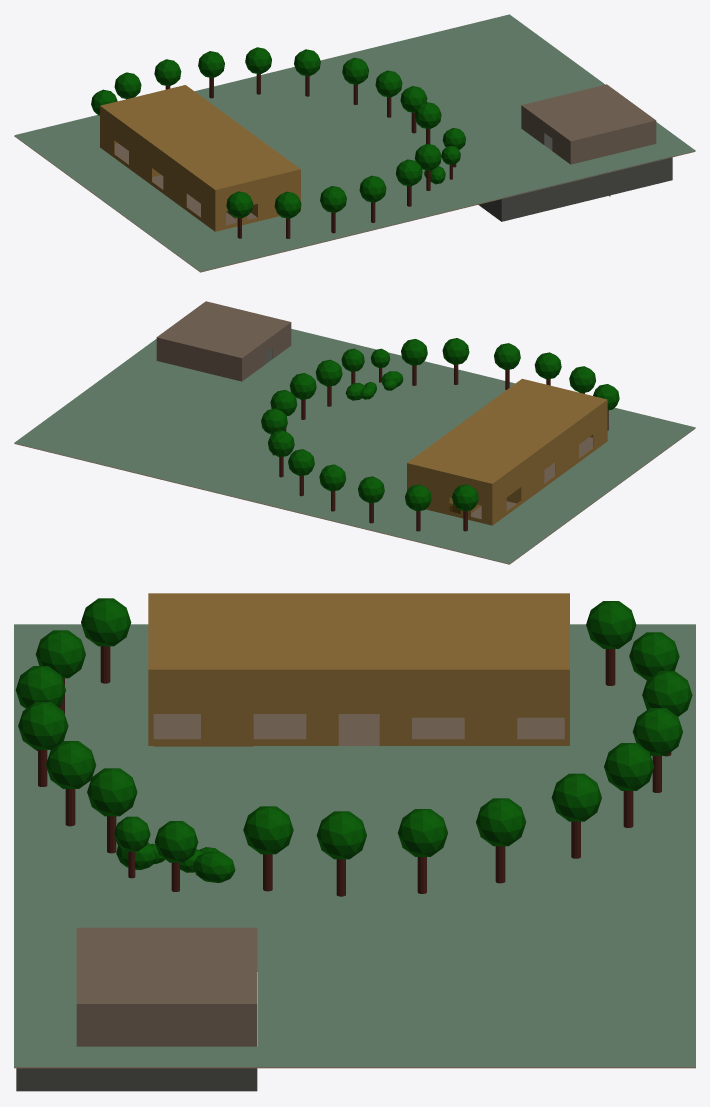
Rendered from blocagem.fbx.
3 renders of one model, top to bottom at view 1: azimuth 30°, elevation 25°; view 2: azimuth 150°, elevation 25°; view 3: azimuth 270°, elevation 25°, orthographic. The views are drawn at different scales.
Parts seen in each view (by area): view 1: ChaoEmcima, escola, Predio_cima, predio_baixo, ChaoEmbaixo, Icosphere.012, Icosphere.013, Icosphere.010, Icosphere.011, Icosphere.001, Icosphere.004, Icosphere.008 (+8 smaller); view 2: ChaoEmcima, escola, Predio_cima, ChaoEmbaixo, Icosphere.012, Icosphere.004, Icosphere.010, Icosphere.015, Icosphere.011, Icosphere.014, Icosphere.016, Icosphere.003 (+9 smaller); view 3: ChaoEmcima, escola, Predio_cima, predio_baixo, Icosphere.013, Icosphere.009, Icosphere.011, Icosphere.004, Icosphere.016, Icosphere.010, Icosphere.006, Icosphere.007 (+12 smaller).
Boxes of the visible parts, x1,y1,x2,y2 form: ChaoEmcima: [14, 14, 695, 271]; escola: [100, 85, 300, 231]; Predio_cima: [521, 84, 656, 164]; predio_baixo: [478, 156, 672, 221]; ChaoEmbaixo: [14, 136, 695, 272]; Icosphere.012: [198, 51, 224, 98]; Icosphere.013: [226, 191, 253, 238]; Icosphere.010: [294, 49, 320, 96]; Icosphere.011: [245, 47, 271, 94]; Icosphere.001: [274, 191, 301, 238]; Icosphere.004: [396, 159, 422, 206]; Icosphere.008: [375, 70, 402, 117]; ChaoEmcima: [14, 329, 695, 563]; escola: [407, 378, 607, 525]; Predio_cima: [156, 301, 291, 381]; ChaoEmbaixo: [14, 428, 695, 564]; Icosphere.012: [319, 464, 346, 511]; Icosphere.004: [442, 338, 469, 384]; Icosphere.010: [268, 430, 294, 477]; Icosphere.015: [405, 484, 431, 531]; Icosphere.011: [288, 449, 314, 496]; Icosphere.014: [358, 476, 384, 523]; Icosphere.016: [452, 484, 478, 531]; Icosphere.003: [494, 343, 520, 389]; ChaoEmcima: [14, 624, 695, 1066]; escola: [148, 593, 569, 746]; Predio_cima: [76, 927, 257, 1046]; predio_baixo: [16, 1068, 257, 1091]; Icosphere.013: [81, 598, 131, 683]; Icosphere.009: [476, 798, 526, 883]; Icosphere.011: [604, 743, 654, 827]; Icosphere.004: [46, 741, 96, 826]; Icosphere.016: [586, 601, 636, 685]; Icosphere.010: [551, 773, 601, 858]; Icosphere.006: [243, 806, 293, 891]; Icosphere.007: [316, 811, 366, 896].
Size of the model in its own units: 8689 by 1186 by 5660.
